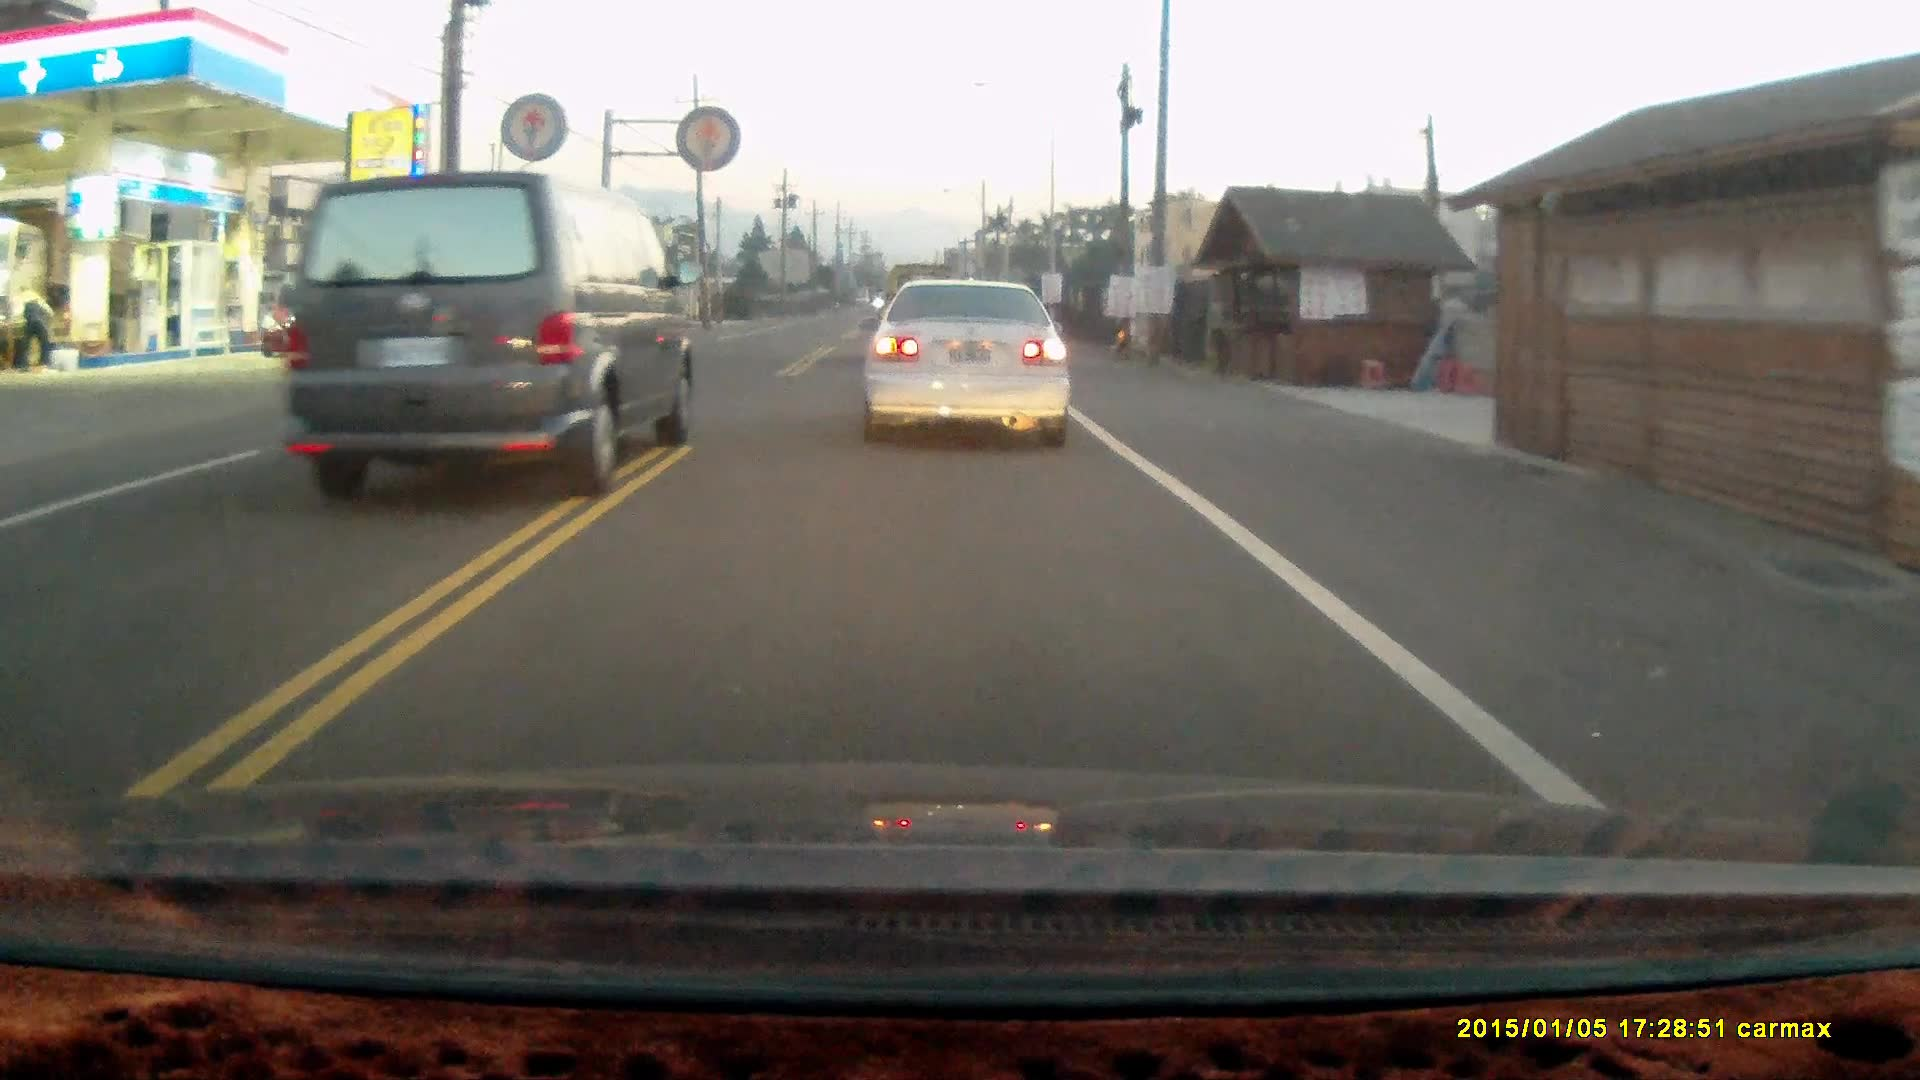pedestrian: (21, 282, 56, 371)
vehicle: (279, 170, 698, 509), (863, 278, 1075, 457), (1, 209, 142, 373)
